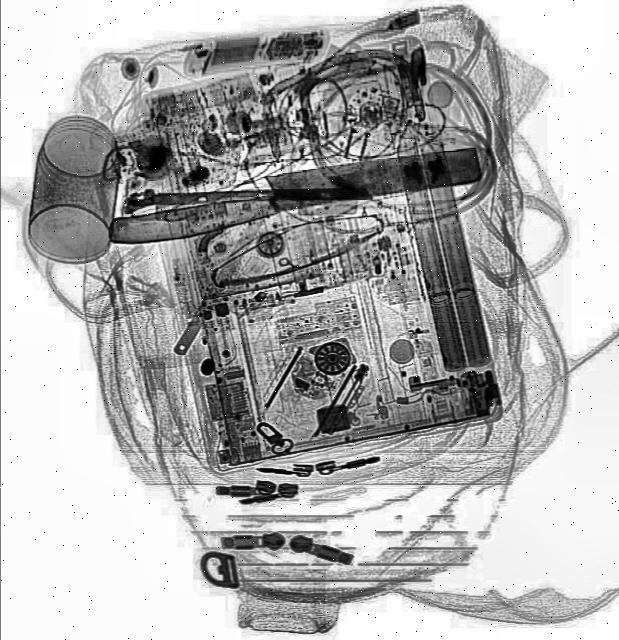Knife: (104, 142, 486, 248)
